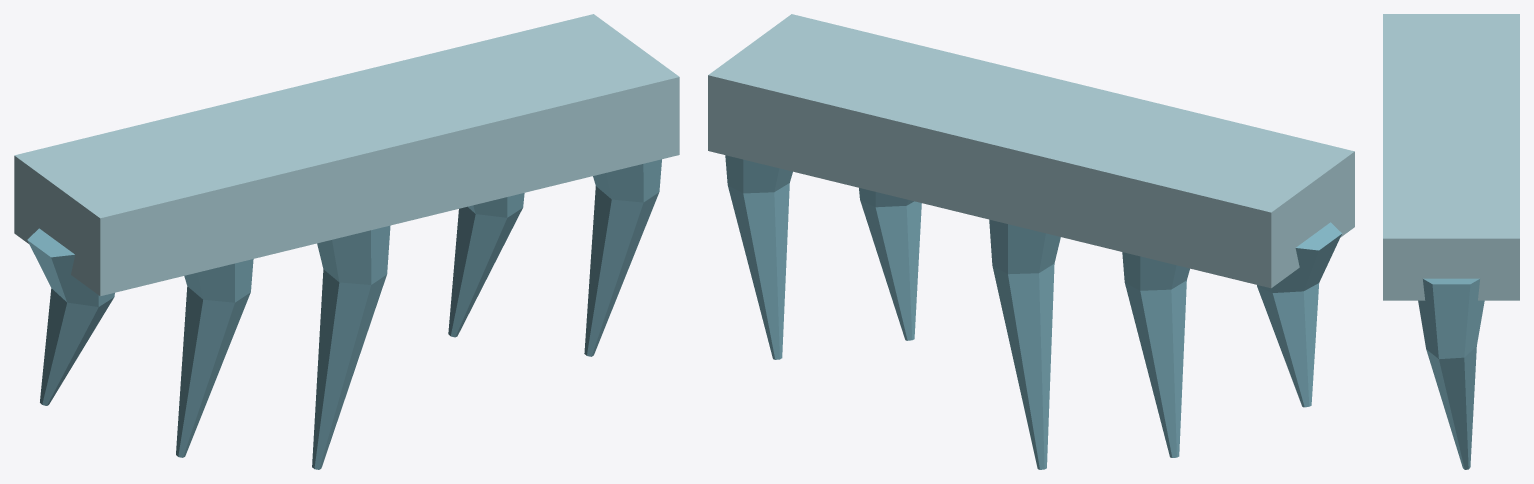
File: FROST_01_ClusterSmall.glb
3 renders of one model, left to right at view 1: azimuth 30°, elevation 25°; view 2: azimuth 150°, elevation 25°; view 3: azimuth 270°, elevation 25°, orthographic. The views are drawn at different scales.
Parts seen in each view (by area): view 1: FROST_01_ClusterSmall; view 2: FROST_01_ClusterSmall; view 3: FROST_01_ClusterSmall.
Boxes of the visible parts, x1,y1,x2,y2 form: FROST_01_ClusterSmall: (14,14,679,469); FROST_01_ClusterSmall: (708,14,1354,469); FROST_01_ClusterSmall: (1383,14,1519,469).
Size of the model in its own units: 0.744 by 0.409 by 0.18.
